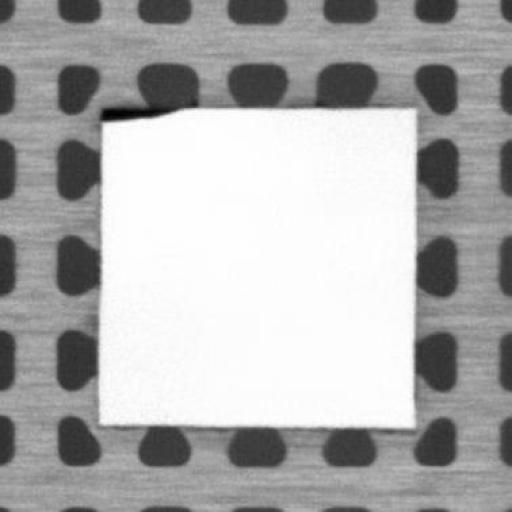DIE_BROKEN: (99, 104, 180, 120)
